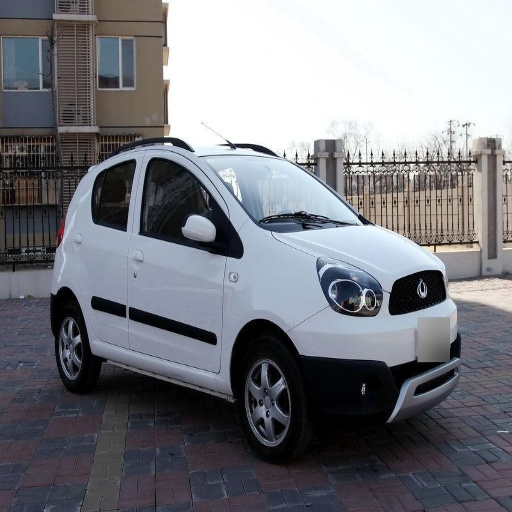front_bumper: (292, 269, 460, 426)
front_right_door: (129, 149, 227, 375)
front_right_light: (317, 259, 381, 316)
